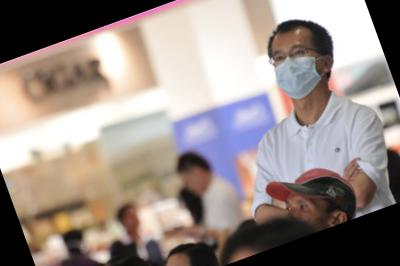with_mask: (267, 35, 333, 104)
without_mask: (161, 259, 195, 266)
